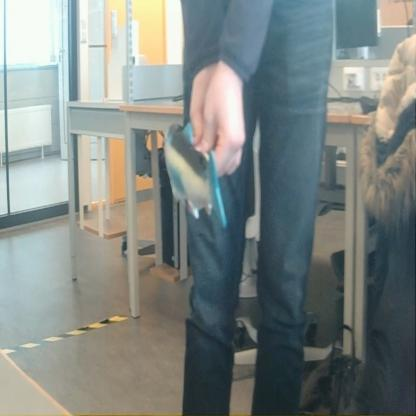rubberfish: (156, 113, 234, 232)
